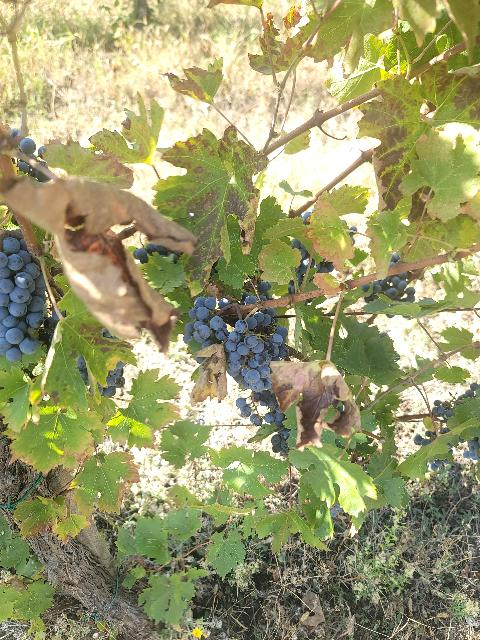grapes: (184, 310, 289, 392), (0, 232, 46, 361), (182, 296, 230, 349)
